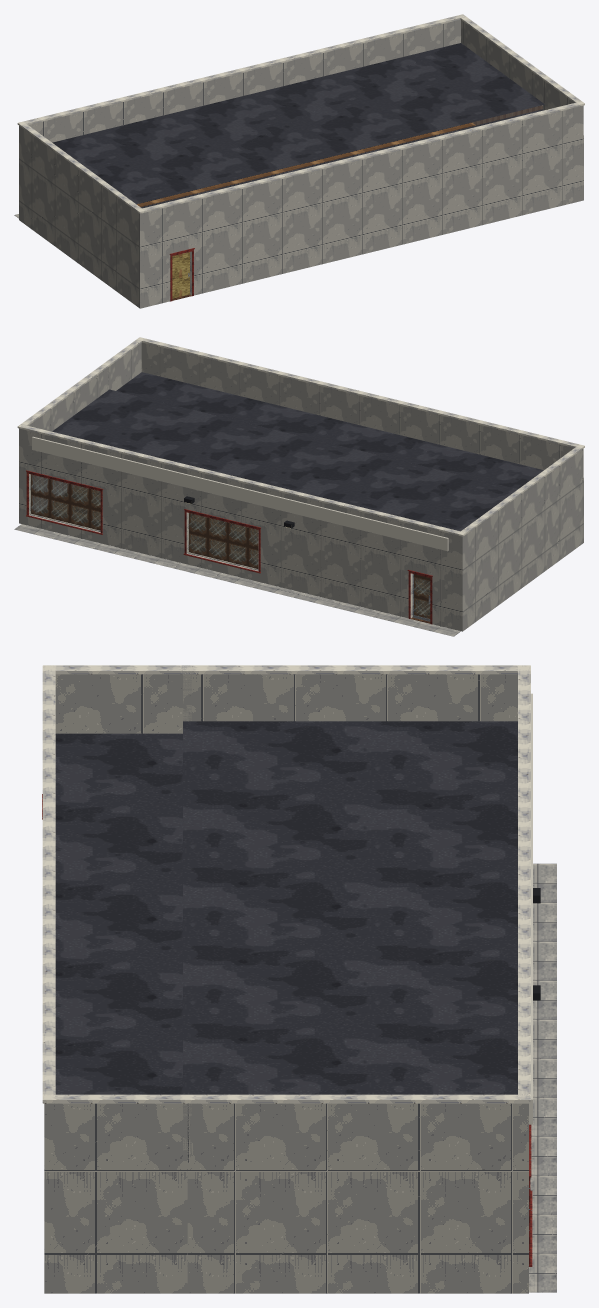
File: COM_Storefront_C.glb
3 renders of one model, top to bottom at view 1: azimuth 30°, elevation 25°; view 2: azimuth 150°, elevation 25°; view 3: azimuth 270°, elevation 25°, orthographic. The views are drawn at different scales.
Visible parts, largest first — view 1: COM_Storefront_C_Exterior, COM_Storefront_C_Interior, INT_Door_BackExit; view 2: COM_Storefront_C_Exterior, COM_Storefront_C_Interior, INT_Door_Entrance; view 3: COM_Storefront_C_Exterior.
Part boxes in pixels (x1=…): COM_Storefront_C_Exterior: x1=14, y1=14, x2=584, y2=308; COM_Storefront_C_Interior: x1=137, y1=105, x2=542, y2=207; INT_Door_BackExit: x1=172, y1=252, x2=189, y2=298; COM_Storefront_C_Exterior: x1=14, y1=337, x2=584, y2=636; COM_Storefront_C_Interior: x1=32, y1=475, x2=429, y2=617; INT_Door_Entrance: x1=412, y1=574, x2=430, y2=621; COM_Storefront_C_Exterior: x1=42, y1=665, x2=556, y2=1293.
Size of what is drawn, in the model's own units: 22.28 by 4.67 by 11.15.
16 materials, 16 textured.
